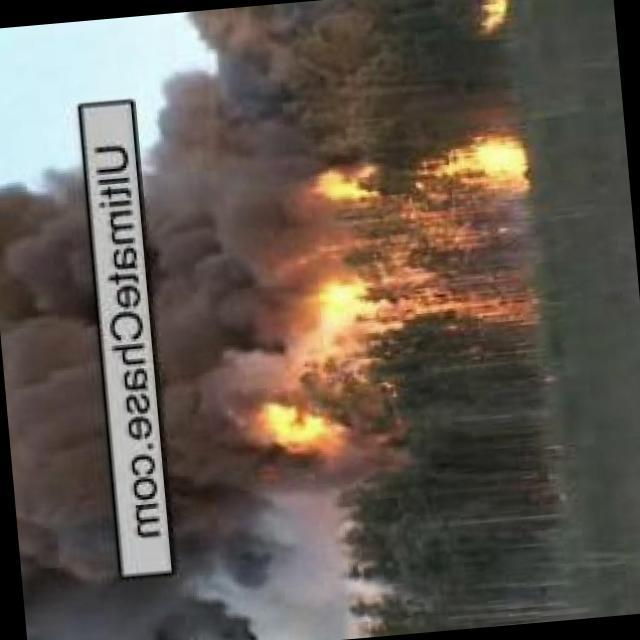Fire: (301, 125, 531, 335), (195, 382, 384, 480), (463, 1, 514, 42)
